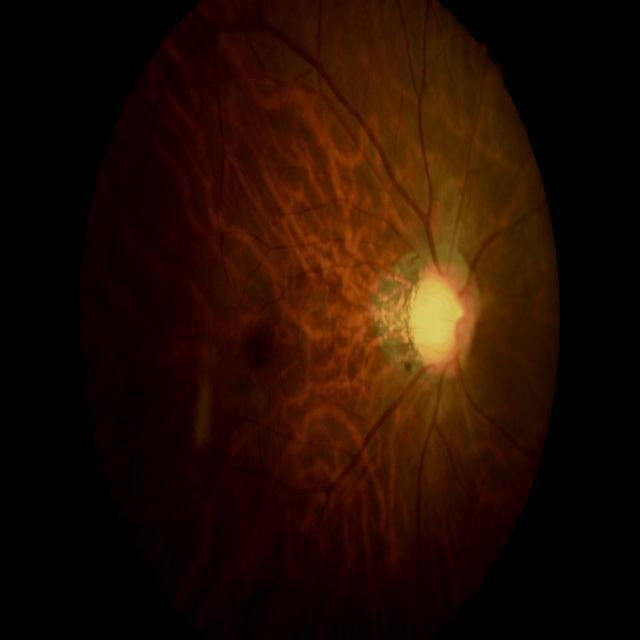cup: (418, 277, 466, 364)
disk: (408, 260, 477, 377)
